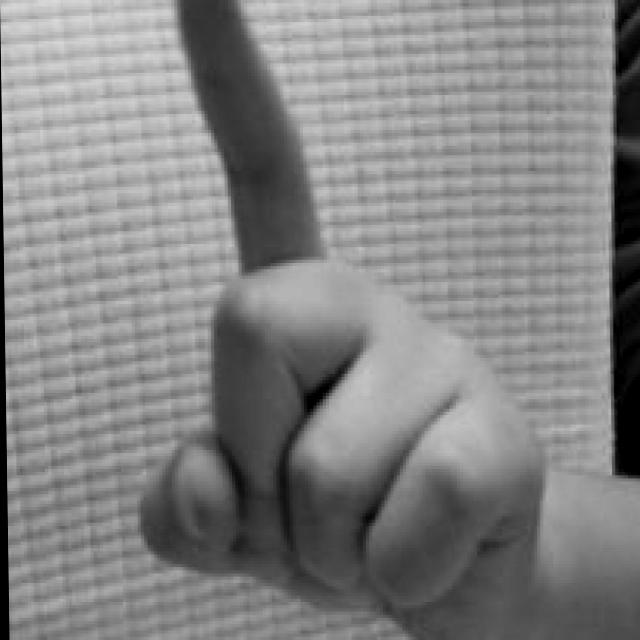I: (127, 0, 544, 640)
